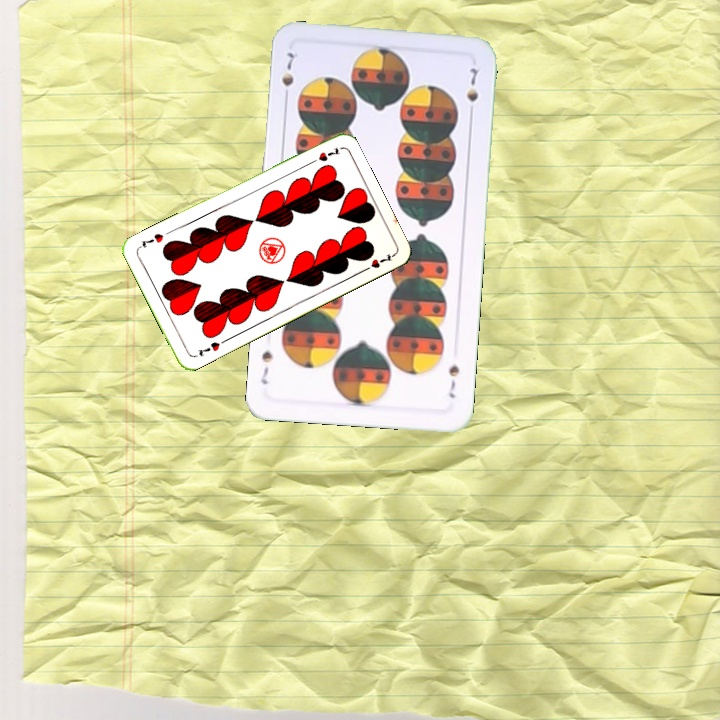H7: (305, 143, 342, 167), (194, 337, 222, 359)
S7: (277, 48, 297, 104), (444, 361, 462, 401)
